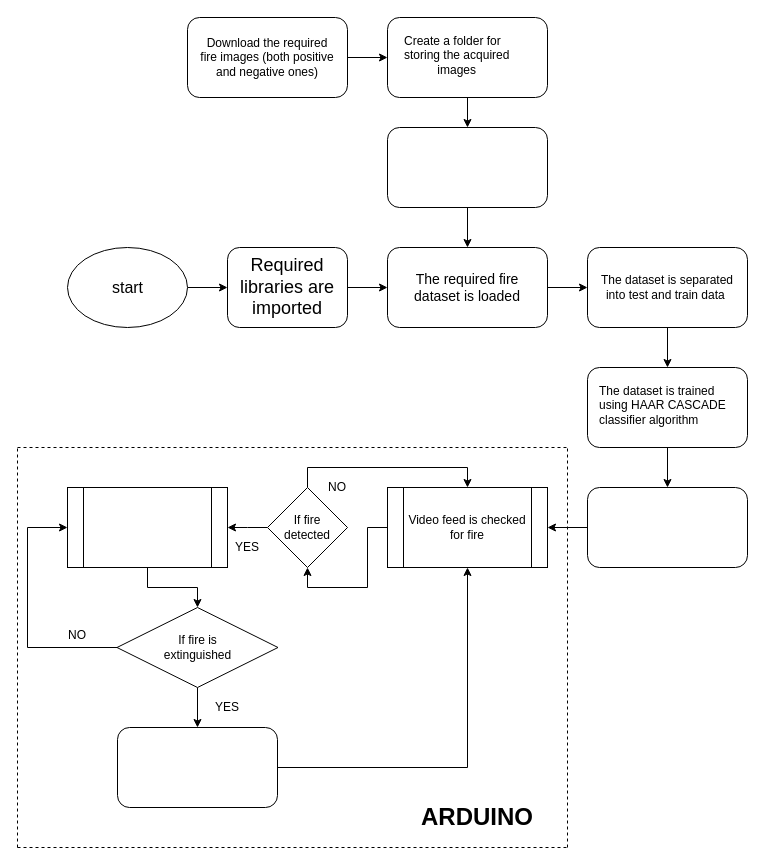
Image size: 765x866. Some labels were removed from this diagram. Here are the shapes that lost their labels. From the top down, the centre of each, then its label:
point (467, 167): Subdivide the folder into 'p' , 'n' and store appropriate images accordingly
point (147, 527): Water pumps are on
point (667, 527): Link the webcam and Arduino with the classifier model
point (197, 767): Pumps are switched off after few seconds
